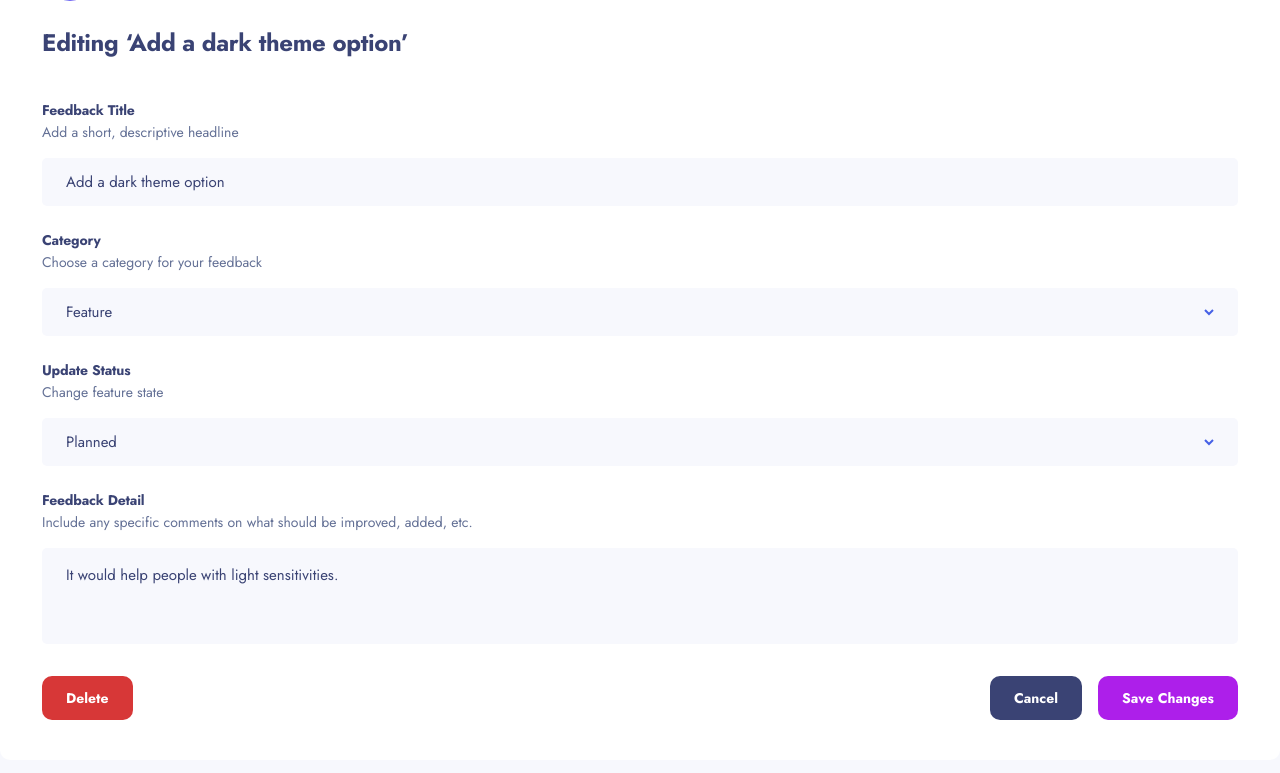
Test: EditFeedbackForm › keeps the request when the dialog is dismissed
(page scrolled)
Click the button "Delete": (87, 698) x1=42 y1=676 x2=133 y2=720
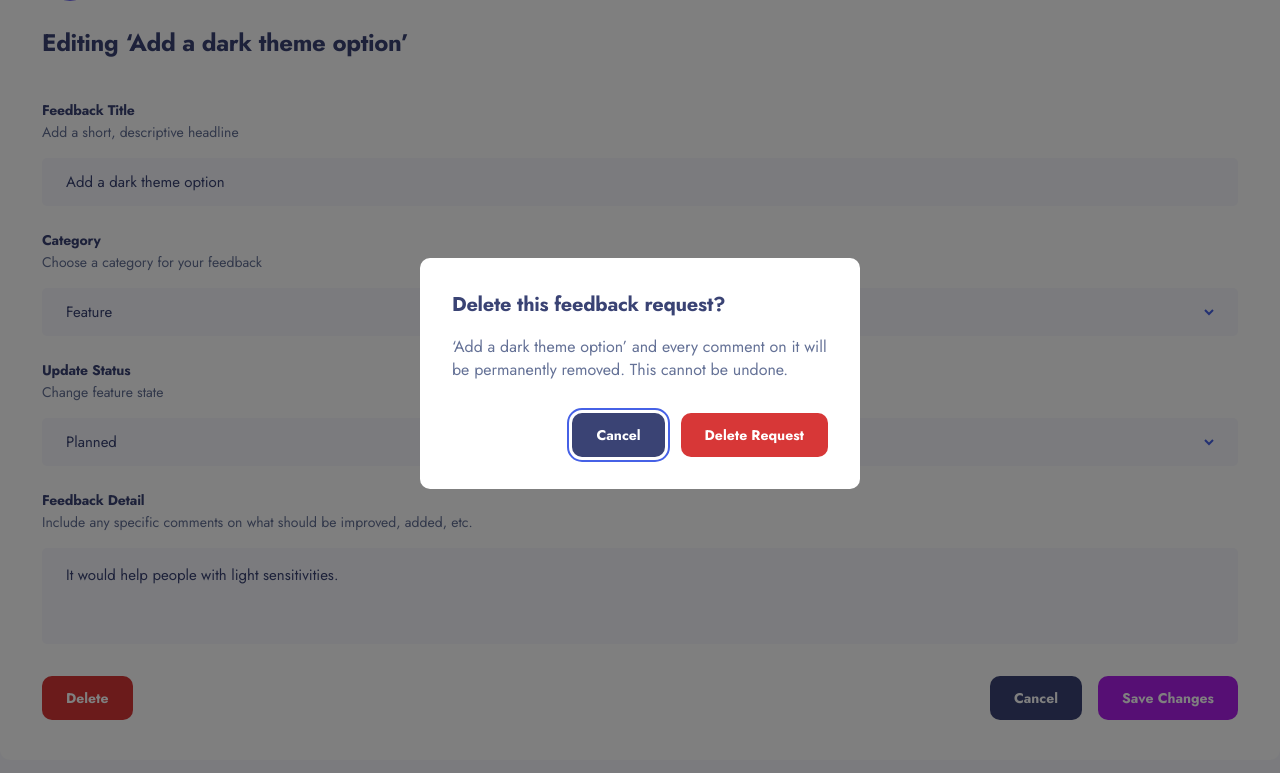
Click the button "Cancel": (619, 434) x1=572 y1=412 x2=665 y2=456
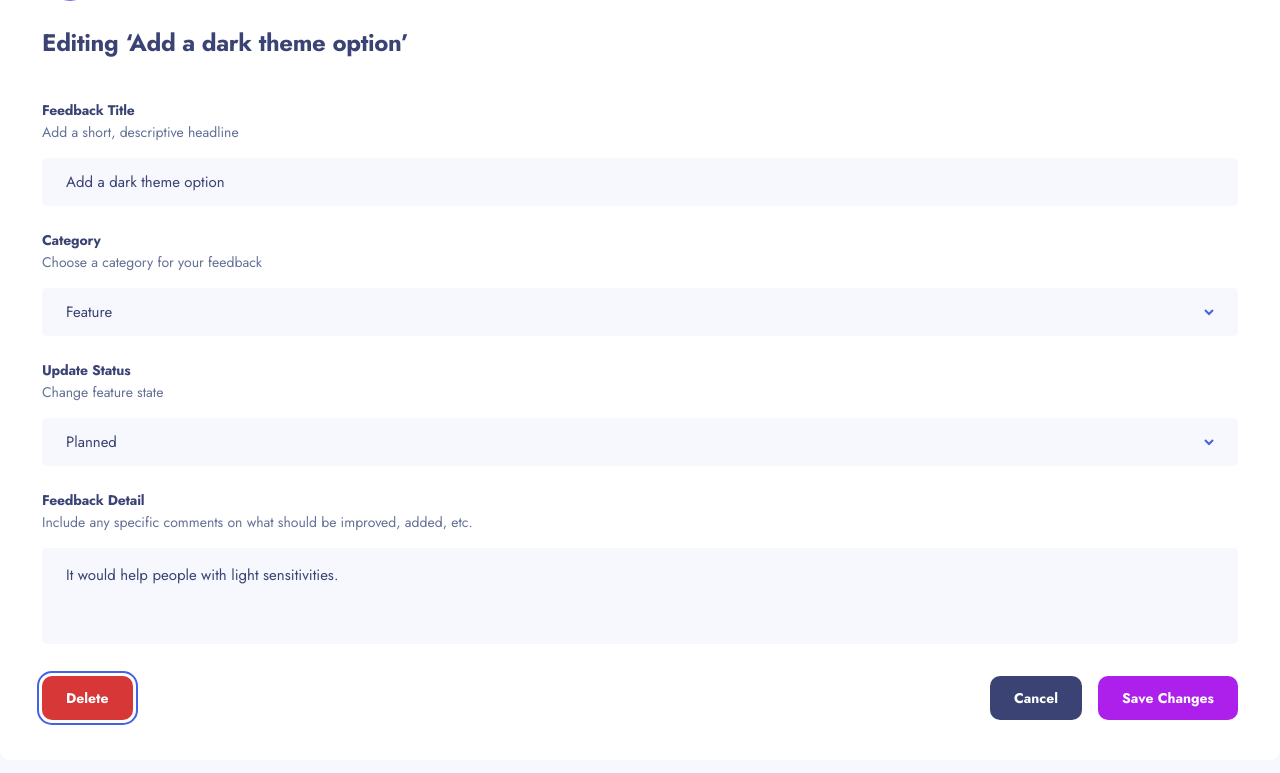
Expected: the dialog is gone
